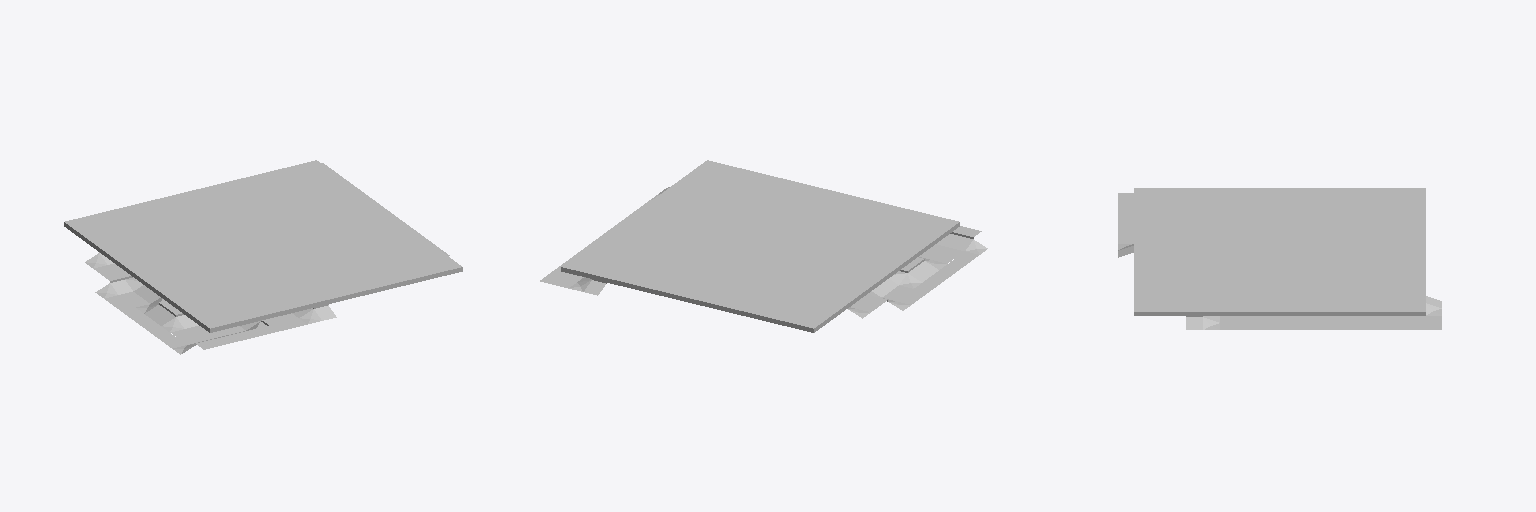
File: Cave 1_C.obj
The picture shows the model from 3 angles: view 1: azimuth 30°, elevation 25°; view 2: azimuth 150°, elevation 25°; view 3: azimuth 270°, elevation 25°; orthographic projection.
Visible parts, largest first — view 1: Plane; view 2: Plane; view 3: Plane.
Part boxes in pixels (x1,y1,x2,y2): Plane: (64, 160, 462, 332); Plane: (561, 160, 959, 332); Plane: (1134, 188, 1425, 315).
Bounding box in the file's own units: 20 × 1.27 × 19.